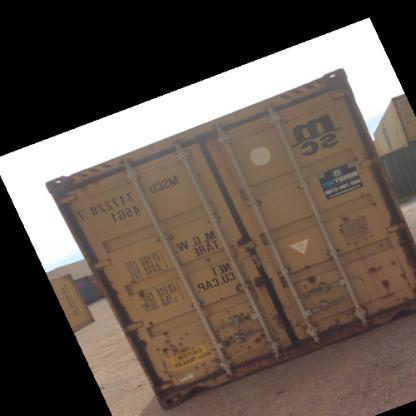Damage: (218, 304, 273, 355), (318, 310, 356, 334), (159, 326, 191, 352), (288, 305, 311, 337), (357, 184, 383, 212), (275, 265, 296, 295), (379, 275, 399, 304), (244, 268, 265, 294), (349, 142, 370, 166), (206, 197, 223, 225), (78, 173, 105, 190), (233, 230, 252, 254), (334, 211, 355, 232), (158, 360, 175, 382), (347, 271, 366, 286), (200, 251, 216, 267), (135, 283, 151, 299), (364, 256, 381, 271), (138, 334, 152, 352), (305, 272, 323, 285), (192, 357, 210, 370), (73, 204, 86, 220), (388, 252, 398, 266), (300, 260, 312, 270)
